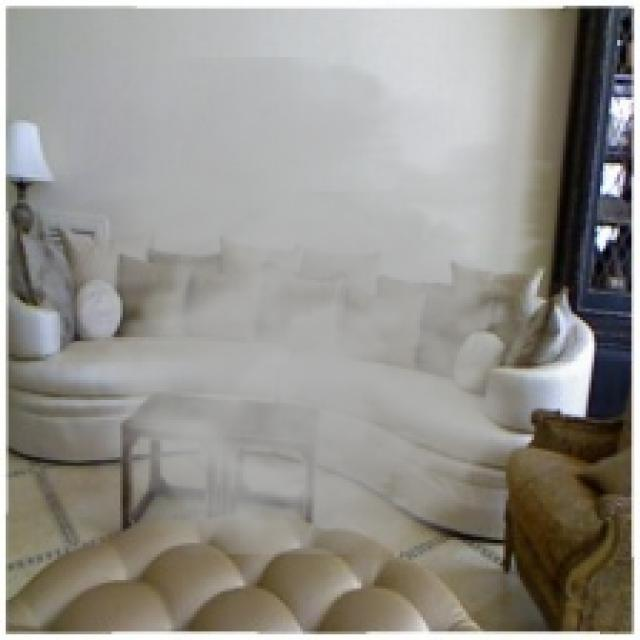smoke: (43, 57, 608, 586)
